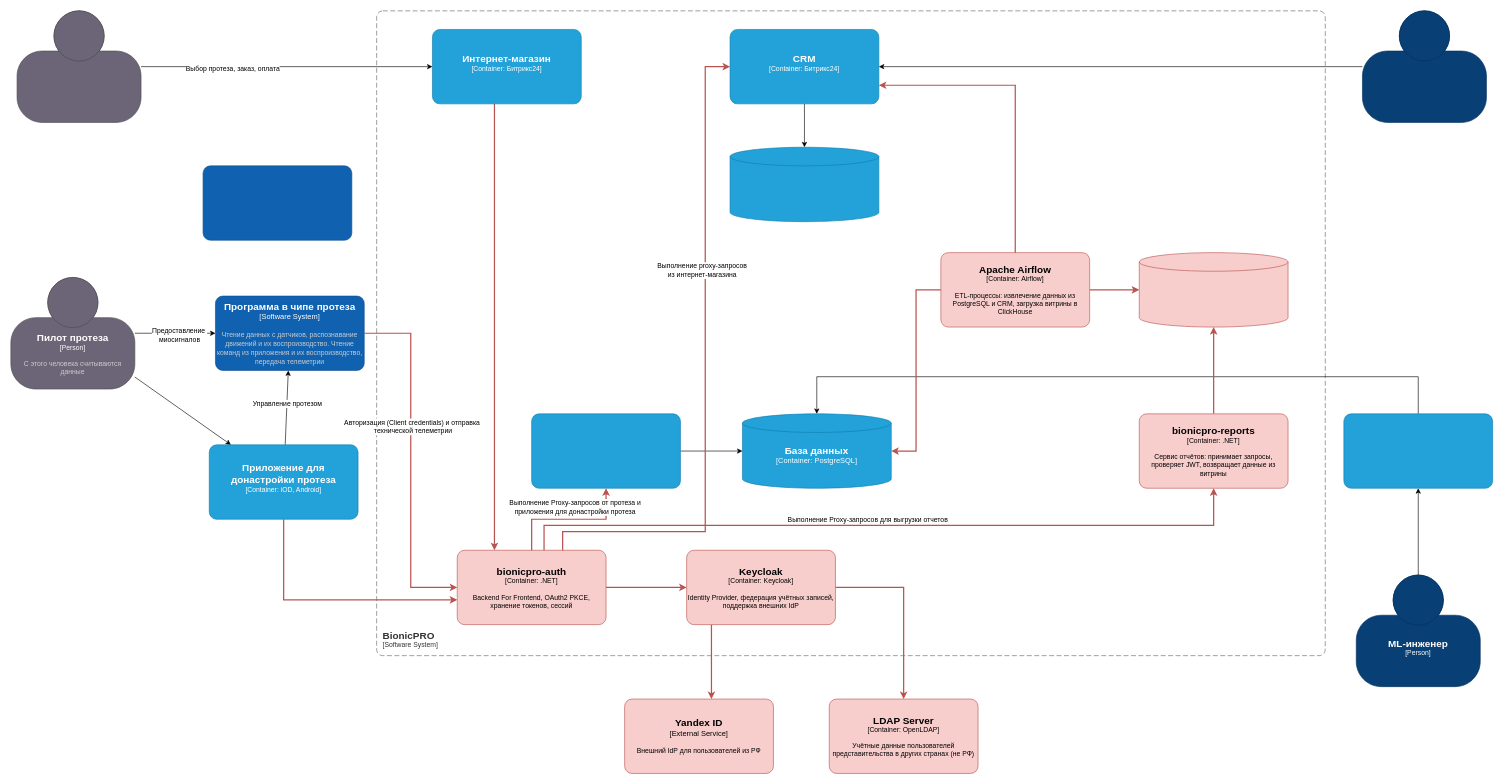
This 1504x784 diagram has some shape labels left out. Each missing label, with the centre of its shape:
"API [Container: e.g. SpringBoot, ElasticSearch, etc.]" goes at [605,450].
"cli tool [Container: e.g. SpringBoot, ElasticSearch, etc.]" goes at [1418,450].
"ClickHouse [Container: ClickHouse] OLAP БД, хранит витрину report_view" goes at [1213,289].
"CRM DB [Container: e.g. Oracle Database 12]" goes at [804,184].
"System name [Software System] Description of software system." goes at [277,202].
"Оператор производства [Person]" goes at [1424,66].
"Покупатель протеза [Person]" goes at [78,66].
